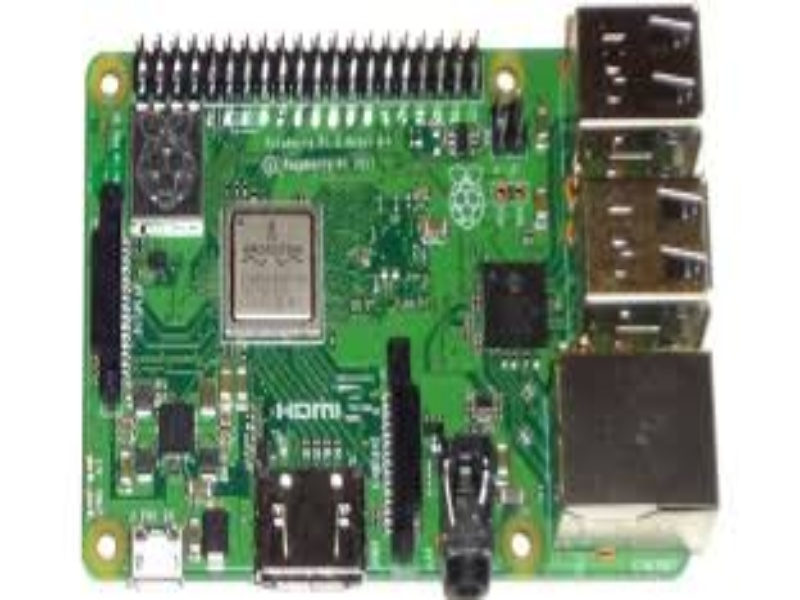raspberrypi: (62, 14, 714, 586)
